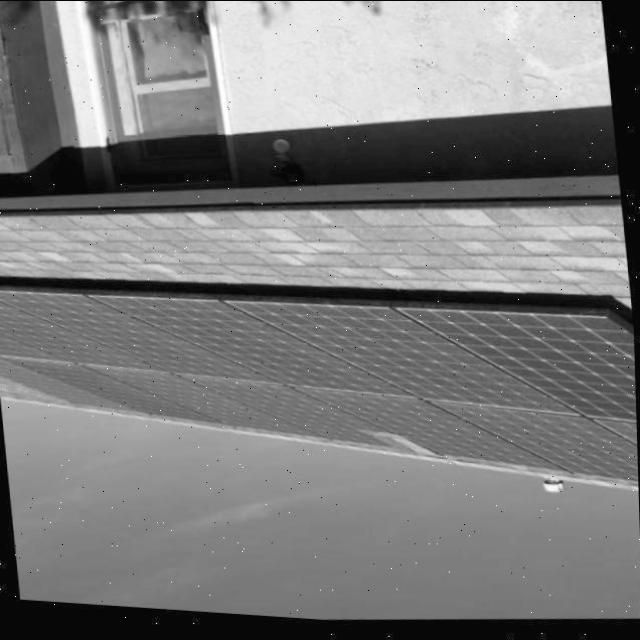Surface Contaminant: (0, 300, 639, 482)
